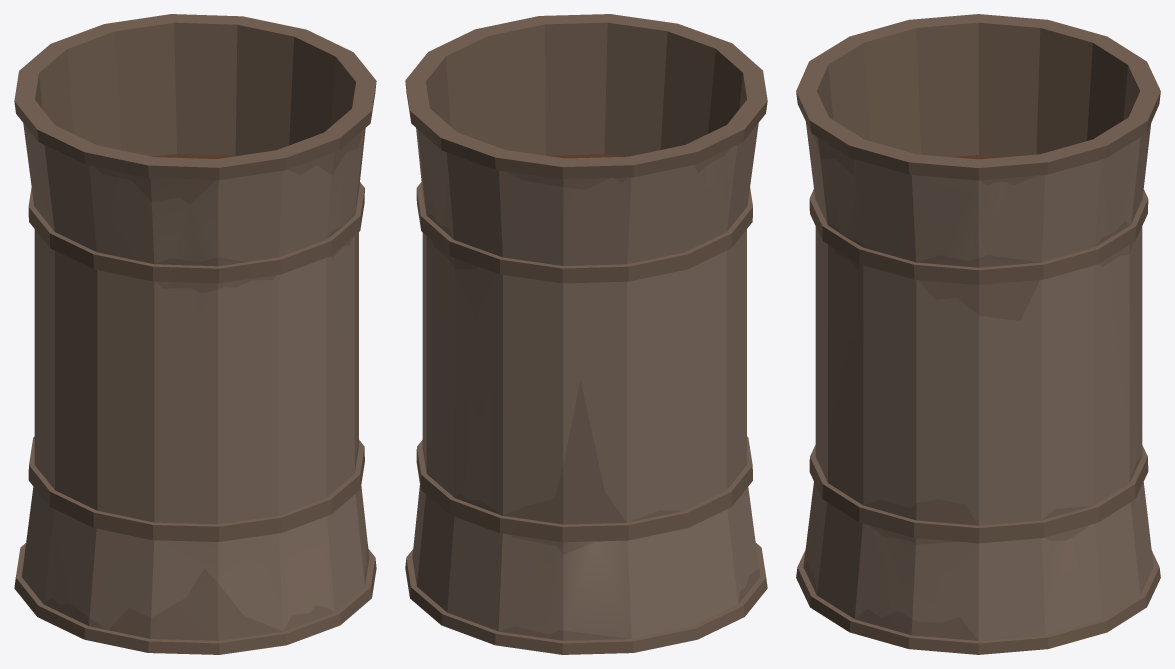
File: SM_Props_Barrel_01.fbx
3 views of the same model, side by side, from view 1: azimuth 30°, elevation 25°; view 2: azimuth 150°, elevation 25°; view 3: azimuth 270°, elevation 25° (orthographic).
Parts seen in each view (by area): view 1: SM_Props_Barrel_01; view 2: SM_Props_Barrel_01; view 3: SM_Props_Barrel_01.
Part boxes in pixels (x1,y1,x2,y2): SM_Props_Barrel_01: (14,14,376,654); SM_Props_Barrel_01: (405,14,767,654); SM_Props_Barrel_01: (796,14,1160,654).
Bounding box in the file's own units: 60.21 × 88.66 × 60.21.
